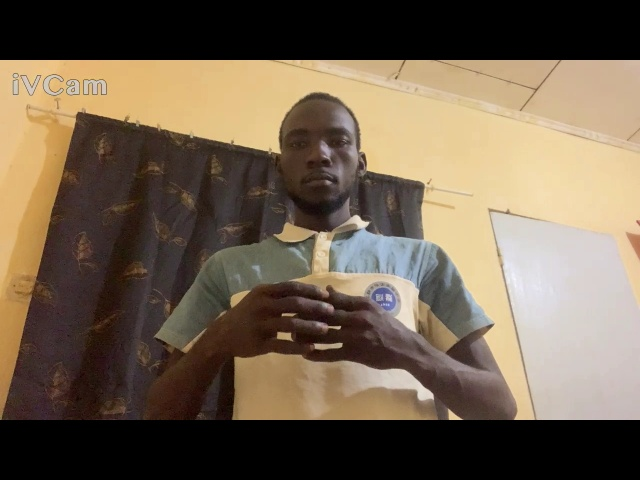comment: (212, 273, 433, 385)
